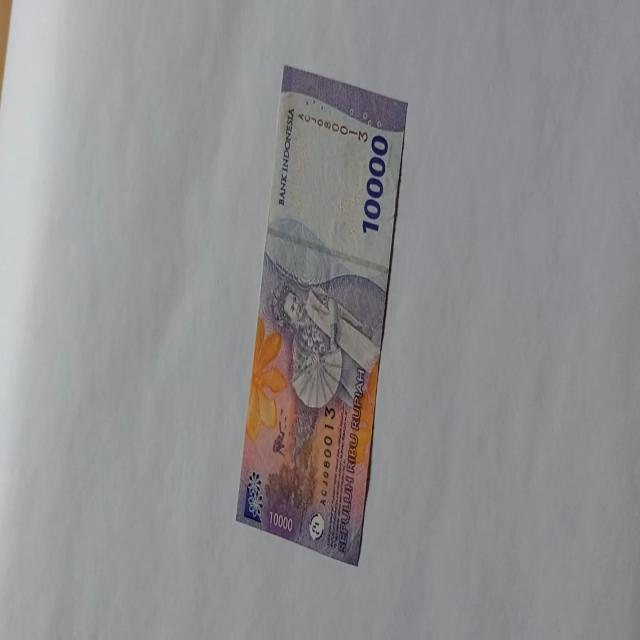sepuluh ribu rupiah: (234, 63, 408, 566)
